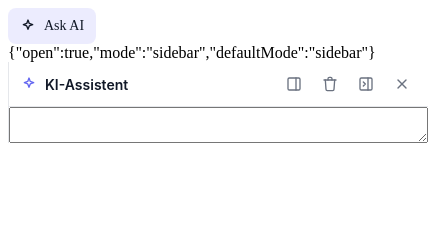
Test: layout menu › German labels
The image size is (445, 228).
Earlier steps of the test are not shown.
Click the button named "Ansicht: Seitenleiste" at (294,84), box [280,70,308,98]
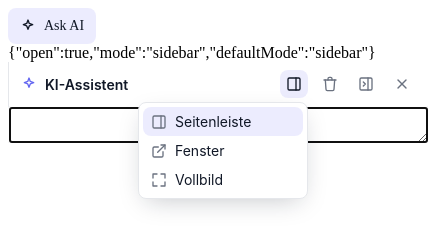
Check: the menu named "Ansicht" is shown, box [138,102,308,199]
